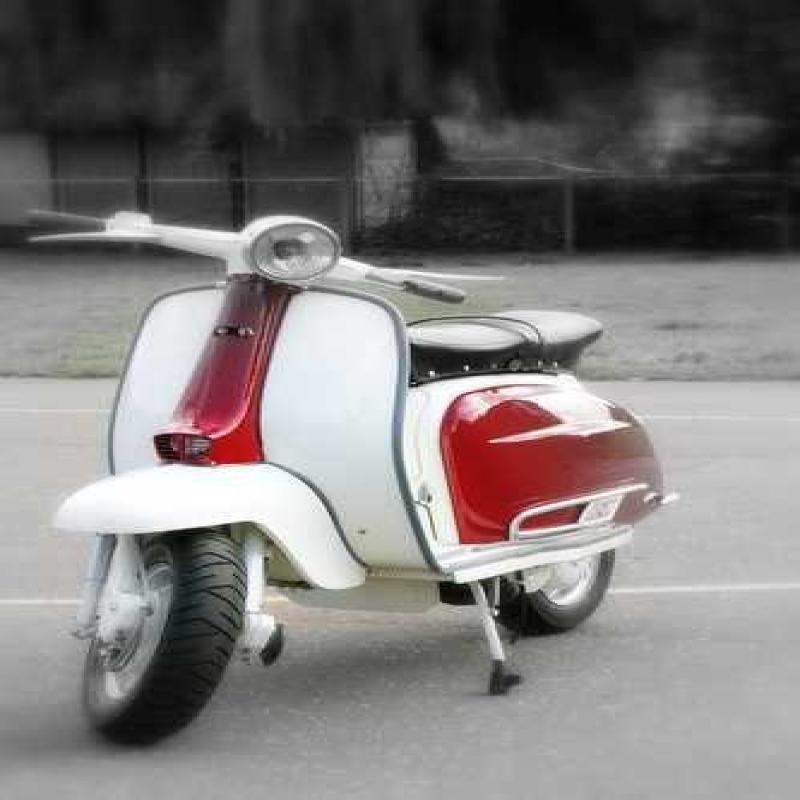bike: (46, 164, 662, 796)
